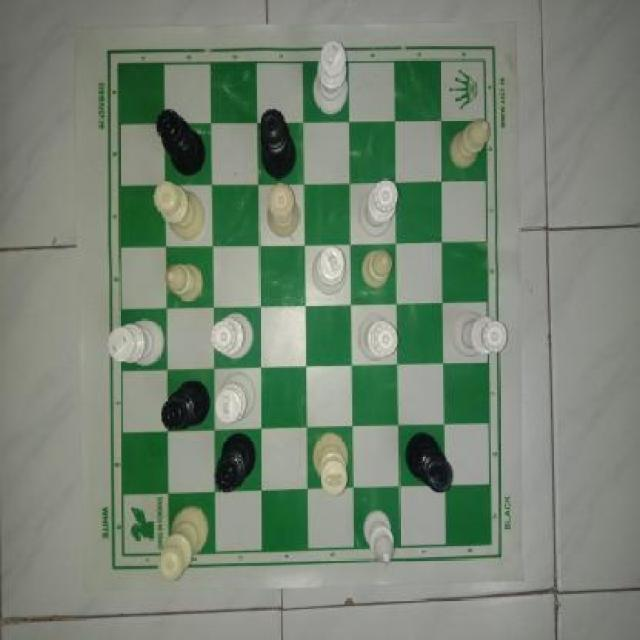black-king: (404, 432, 454, 493)
black-queen: (154, 108, 207, 175), (214, 432, 258, 492), (160, 380, 211, 431), (259, 108, 296, 178)
white-bishop: (448, 120, 491, 168), (362, 509, 395, 563), (164, 263, 204, 301), (360, 248, 393, 289)
white-king: (312, 41, 350, 114), (106, 319, 166, 365), (312, 432, 350, 495), (213, 375, 256, 425), (310, 246, 347, 294)
white-queen: (157, 507, 210, 582), (152, 180, 208, 240), (451, 313, 510, 358), (357, 179, 399, 238), (209, 311, 256, 360), (265, 183, 302, 236), (357, 319, 399, 360)
